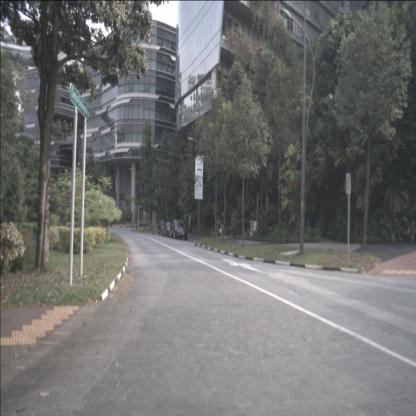human-pedestrian-adult: (219, 211, 225, 238), (216, 215, 220, 236)
vehicle-car: (170, 219, 187, 240), (163, 221, 176, 237), (158, 218, 170, 235)
